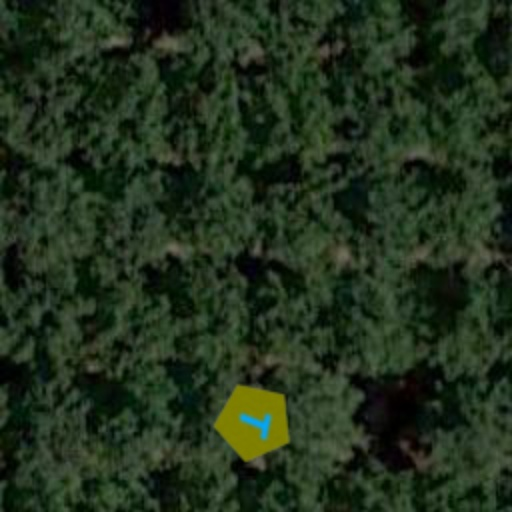pentagon: (204, 372, 304, 472)
